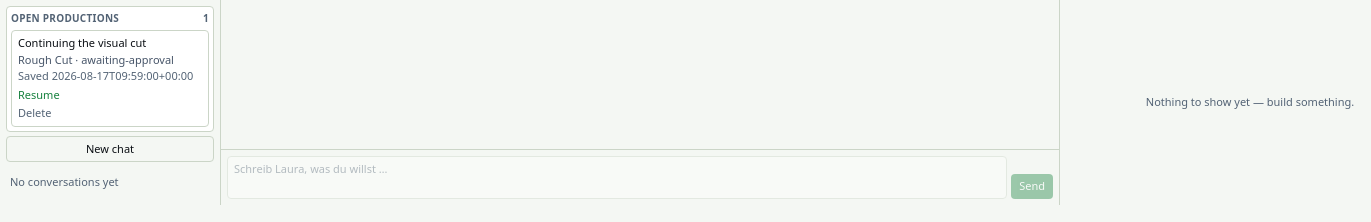
Test: ChatStage › resumes an orphan session read-only with its brief and production card
Step 1. Click the button with aria-label "Resume" → (110, 69), box [18,35,202,103]
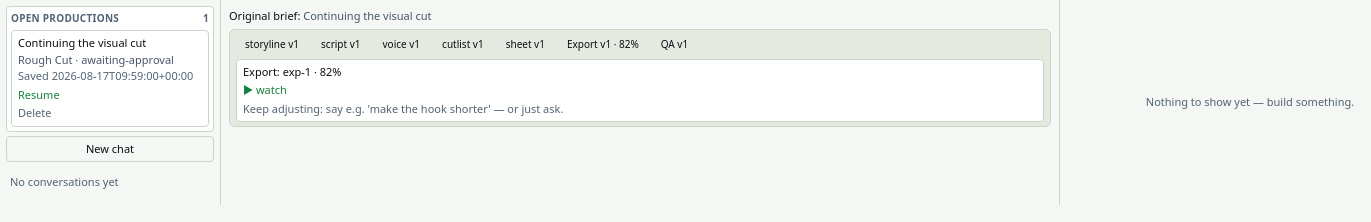
expect the text "Original brief:" is shown: met, box [229,8,300,23]
